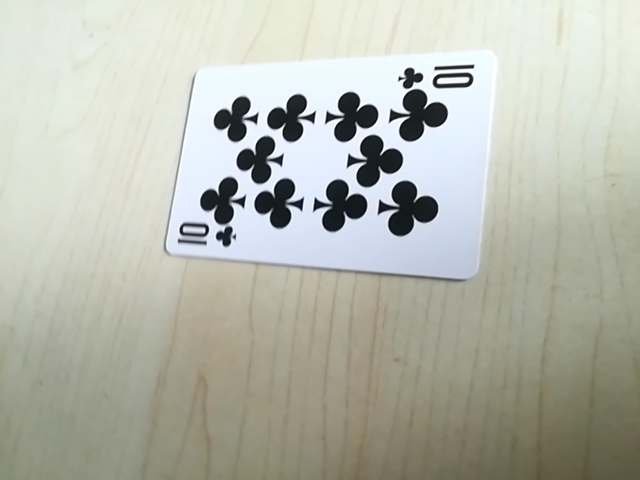mh 10: (397, 57, 484, 92), (171, 222, 237, 256)
